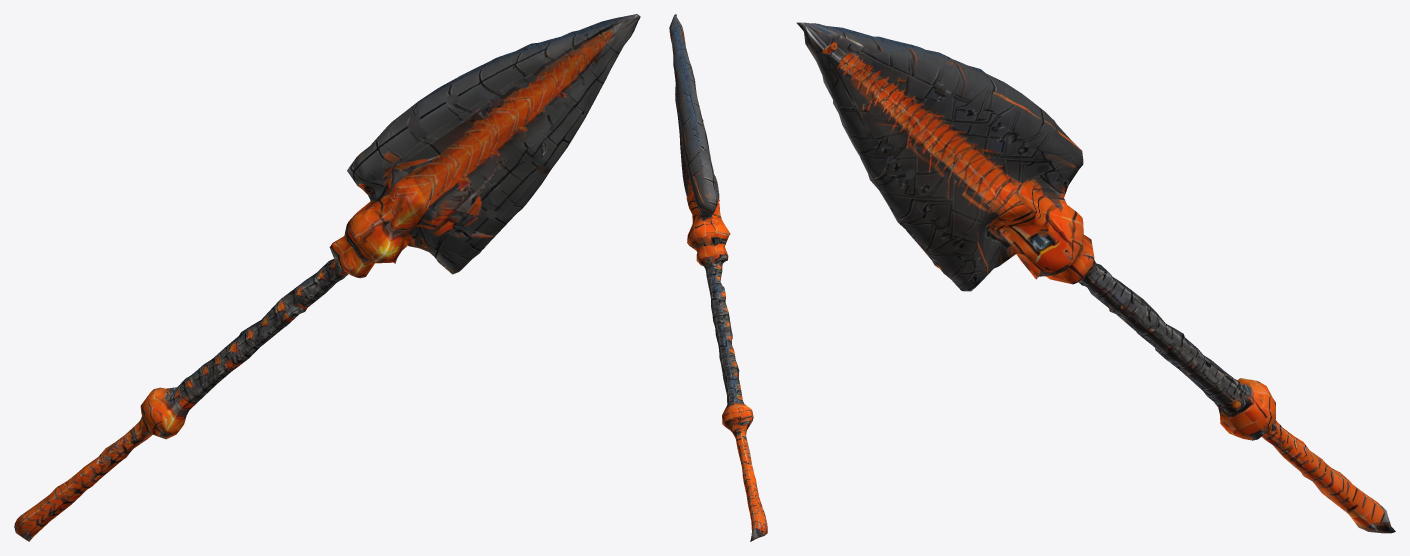
The model's file is Large_mechanoid_spear_sharp_tip_long_shaft_chain_on_the_en_0606151649_refine.fbx.
The picture shows the model from 3 angles, left to right: view 1: azimuth 30°, elevation 25°; view 2: azimuth 150°, elevation 25°; view 3: azimuth 270°, elevation 25°; orthographic projection. The views are drawn at different scales.
Visible parts, largest first — view 1: Mesh_0; view 2: Mesh_0; view 3: Mesh_0.
Boxes of the visible parts, bbox=[...] form: Mesh_0: bbox=[14, 14, 640, 541]; Mesh_0: bbox=[669, 14, 767, 541]; Mesh_0: bbox=[796, 22, 1395, 533].
Size of the model in its own units: 80.18 by 120 by 89.47.
Materials: 1 (1 with a texture image).
